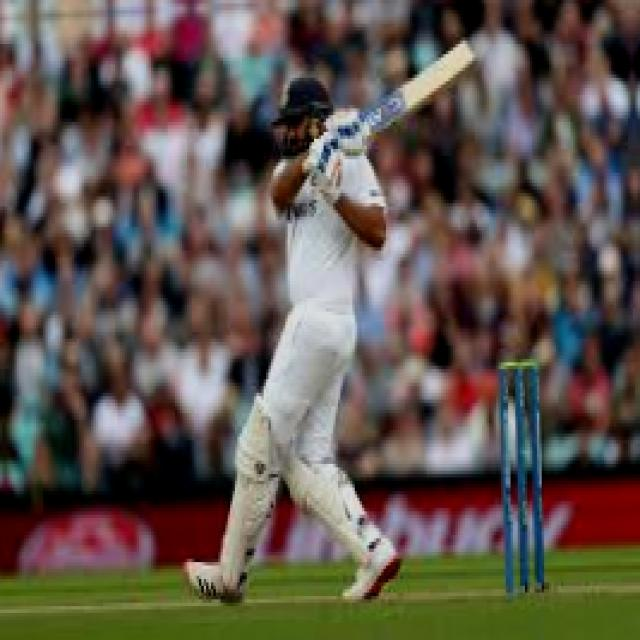toe: (457, 38, 477, 72)
